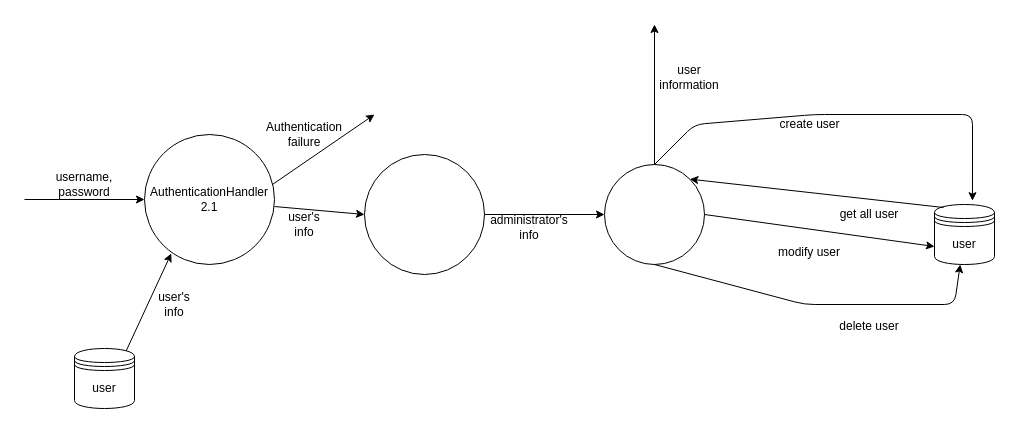
Some shapes in this 1012 by 426 pixel diagram are drawn without their labels. The centre of each missing label's shape, as x and y in pixels:
"Role checker" goes at point 424,214.
"User Management System 2.1" goes at point 654,214.
